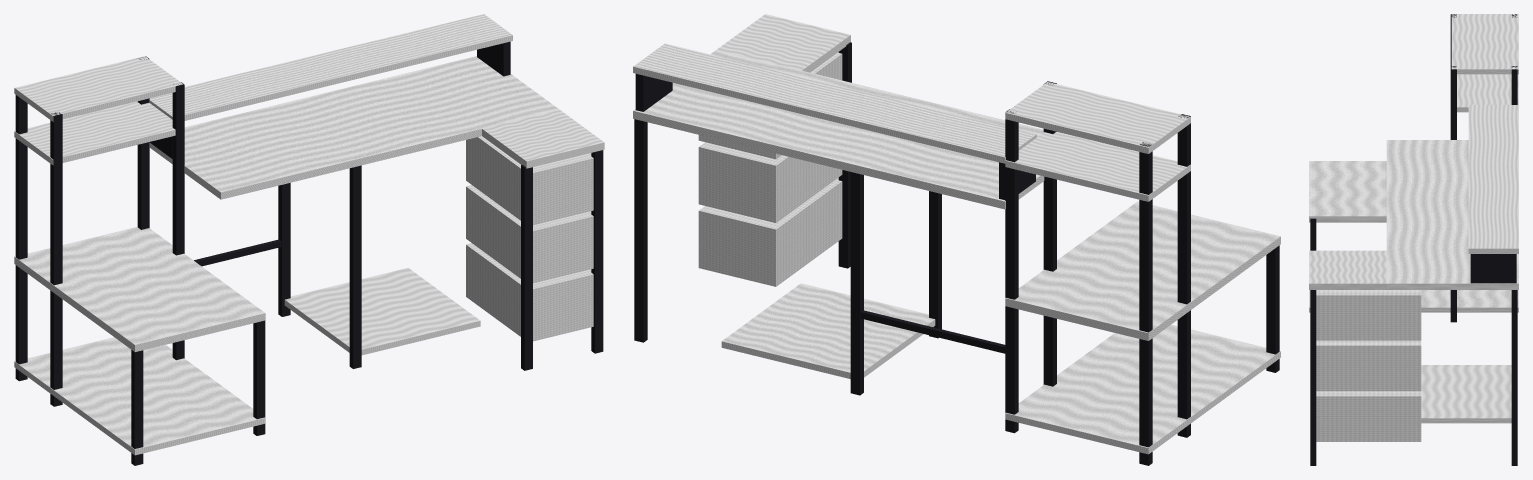
The picture shows the model from 3 angles, left to right: view 1: azimuth 30°, elevation 25°; view 2: azimuth 150°, elevation 25°; view 3: azimuth 270°, elevation 25°; orthographic projection. The views are drawn at different scales.
Parts seen in each view (by area): view 1: 1 main_desk_top, 7 left_printer_shelf, 6 left_bottom_shelf, 3 monitor_riser_top, 16 pc_bottom_shelf, 19 drawer_bottom, 20 drawer_middle, 21 drawer_top, 9 left_top_shelf, 8 left_upper_shelf, 2 right_return_top, 14 left_mid_left_post (+11 smaller); view 2: 1 main_desk_top, 7 left_printer_shelf, 6 left_bottom_shelf, 3 monitor_riser_top, 16 pc_bottom_shelf, 19 drawer_bottom, 20 drawer_middle, 9 left_top_shelf, 8 left_upper_shelf, 2 right_return_top, 12 left_back_left_post, 13 left_back_right_post (+10 smaller); view 3: 1 main_desk_top, 3 monitor_riser_top, 20 drawer_middle, 19 drawer_bottom, 21 drawer_top, 16 pc_bottom_shelf, 7 left_printer_shelf, 9 left_top_shelf, 2 right_return_top, 6 left_bottom_shelf, 8 left_upper_shelf, 5 monitor_riser_right_support (+5 smaller).
Boxes of the visible parts, box(x1,y1,x2,y2) form: 1 main_desk_top: box(149, 56, 559, 199); 7 left_printer_shelf: box(14, 227, 265, 351); 6 left_bottom_shelf: box(14, 337, 265, 455); 3 monitor_riser_top: box(149, 14, 512, 120); 16 pc_bottom_shelf: box(284, 268, 480, 355); 19 drawer_bottom: box(466, 243, 593, 341); 20 drawer_middle: box(466, 185, 593, 283); 21 drawer_top: box(466, 136, 593, 225); 9 left_top_shelf: box(14, 56, 182, 121); 8 left_upper_shelf: box(14, 101, 175, 164); 2 right_return_top: box(482, 110, 604, 168); 14 left_mid_left_post: box(50, 112, 62, 406); 1 main_desk_top: box(633, 50, 1044, 209); 7 left_printer_shelf: box(1005, 201, 1280, 340); 6 left_bottom_shelf: box(1005, 324, 1280, 454); 3 monitor_riser_top: box(633, 43, 1036, 163); 16 pc_bottom_shelf: box(721, 283, 935, 378); 19 drawer_bottom: box(698, 177, 842, 286); 20 drawer_middle: box(698, 142, 842, 222); 9 left_top_shelf: box(1005, 82, 1190, 153); 8 left_upper_shelf: box(1005, 132, 1190, 201); 2 right_return_top: box(717, 14, 850, 72); 12 left_back_left_post: box(1139, 142, 1152, 465); 13 left_back_right_post: box(1005, 109, 1018, 433); 1 main_desk_top: box(1386, 140, 1518, 289); 3 monitor_riser_top: box(1468, 104, 1518, 253); 20 drawer_middle: box(1316, 340, 1421, 391); 19 drawer_bottom: box(1316, 391, 1421, 441); 21 drawer_top: box(1316, 290, 1421, 340); 16 pc_bottom_shelf: box(1421, 365, 1511, 423); 7 left_printer_shelf: box(1309, 161, 1386, 222); 9 left_top_shelf: box(1451, 14, 1518, 74); 2 right_return_top: box(1309, 250, 1386, 289); 6 left_bottom_shelf: box(1309, 290, 1518, 312); 8 left_upper_shelf: box(1457, 74, 1518, 112); 5 monitor_riser_right_support: box(1470, 254, 1516, 283).
Size of the model in its own units: 1.69 by 1 by 0.752.
Materials: 3 (2 with a texture image).
